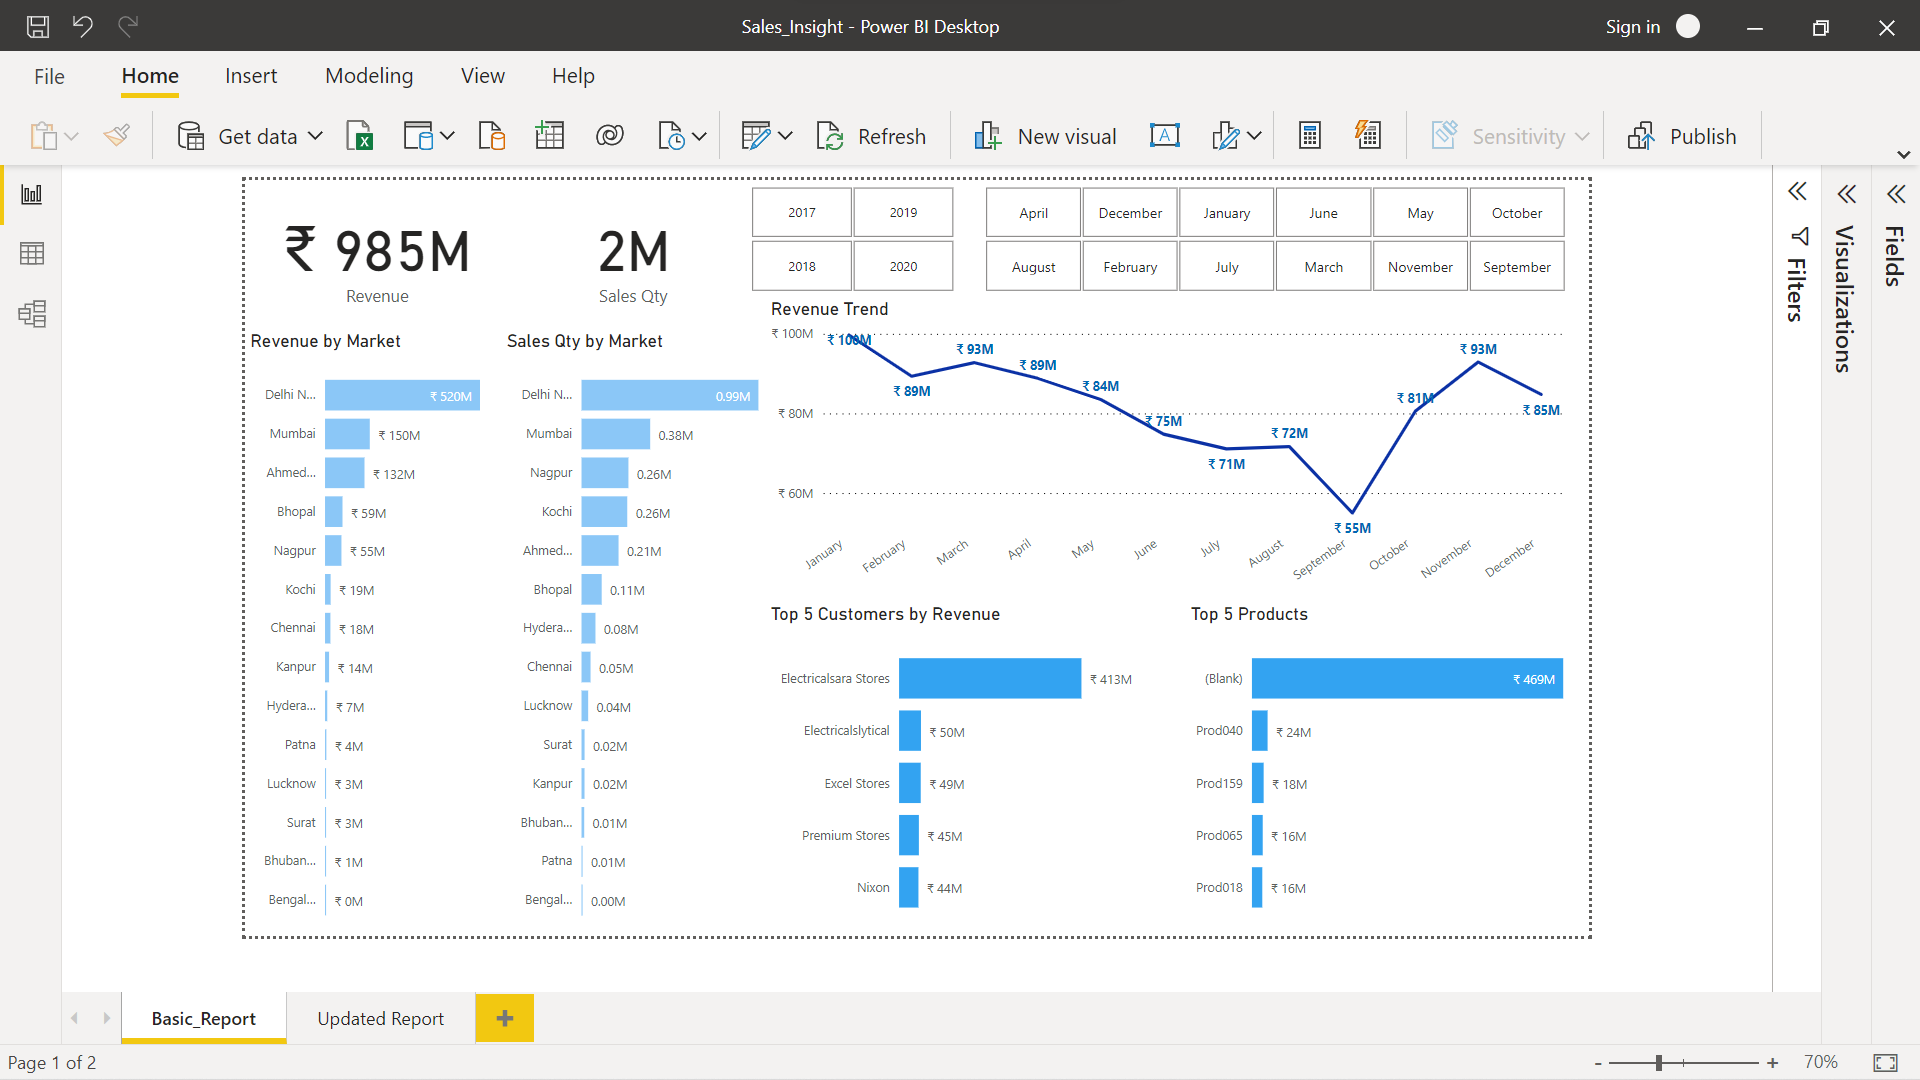

Layout of this report page (visuals, bound fields, positions):
{"tool":"powerbi","page":{"name":"Basic_Report","canvas":[1280,720],"ordinal":0},"visuals":[{"type":"card","fields":{"Values":["BaseMesure.Revenue"]},"box":[0,0,251.8,142.6],"z":0},{"type":"card","fields":{"Values":["BaseMesure.Sales Qty"]},"box":[251.8,0,236.6,142.6],"z":1000},{"type":"barChart","title":"Revenue by Market","fields":{"Category":["sales markets.markets_name"],"Y":["BaseMesure.Revenue"]},"box":[0,142.6,251.8,577.8],"z":2000},{"type":"barChart","title":"Sales Qty by Market","fields":{"Category":["sales markets.markets_name"],"Y":["BaseMesure.Sales Qty"]},"box":[244.2,142.6,251.8,577.8],"z":3000},{"type":"slicer","fields":{"Values":["sales date.year"]},"box":[456.5,0,241.1,112.2],"z":4000},{"type":"slicer","fields":{"Values":["sales date.month_name"]},"box":[679.4,0,600.6,112.2],"z":5000},{"type":"lineChart","title":"Revenue Trend","fields":{"Y":["BaseMesure.Revenue"],"Category":["sales date.cy_date.Variation.Date Hierarchy.Month","sales date.cy_date.Variation.Date Hierarchy.Day"]},"box":[495.9,112.2,767.4,291.2],"z":6000},{"type":"barChart","title":"Top 5 Customers by Revenue","fields":{"Category":["sales customers.custmer_name"],"Y":["BaseMesure.Revenue"]},"box":[496.1,403.3,384.4,316.2],"z":7000},{"type":"barChart","title":"Top 5 Products","fields":{"Category":["sales products.product_code"],"Y":["BaseMesure.Revenue"]},"box":[895.6,403.3,384.4,316.2],"z":8000}]}

Visuals, with their boxes on the page's 1280x720 design canvas (x1, y1, x2, y2). These are canvas units, not pixel positions in the 1920x1080 screenshot, which may show the page scaled, cropped or inside an application window:
card - BaseMesure.Revenue: (left=0, top=0, right=252, bottom=143)
card - BaseMesure.Sales Qty: (left=252, top=0, right=488, bottom=143)
"Revenue by Market" barChart: (left=0, top=143, right=252, bottom=720)
"Sales Qty by Market" barChart: (left=244, top=143, right=496, bottom=720)
slicer - sales date.year: (left=456, top=0, right=698, bottom=112)
slicer - sales date.month_name: (left=679, top=0, right=1280, bottom=112)
"Revenue Trend" lineChart: (left=496, top=112, right=1263, bottom=403)
"Top 5 Customers by Revenue" barChart: (left=496, top=403, right=880, bottom=720)
"Top 5 Products" barChart: (left=896, top=403, right=1280, bottom=720)
